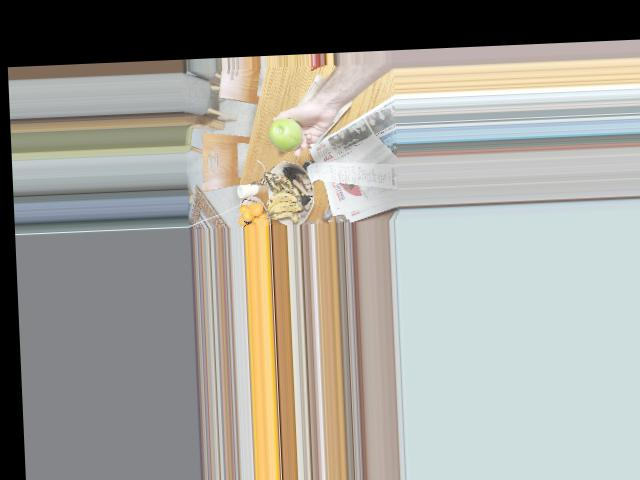apple: (268, 117, 305, 151)
